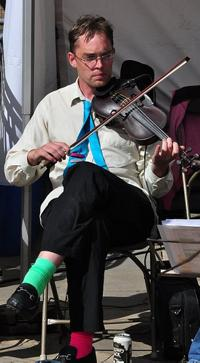person: (4, 14, 186, 361)
